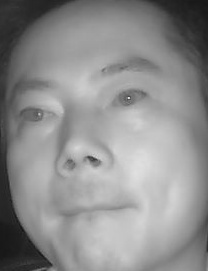eye: (102, 87, 149, 112), (13, 102, 57, 126)
mouth: (58, 191, 137, 232)
